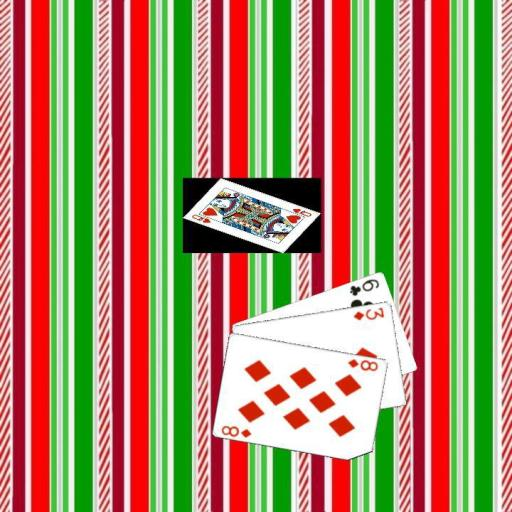3D: (351, 304, 386, 322)
6C: (347, 276, 381, 297)
8D: (345, 356, 380, 373), (218, 422, 253, 439)
